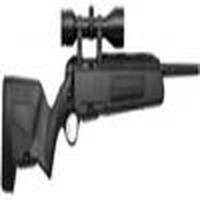gun: (1, 11, 195, 178)
